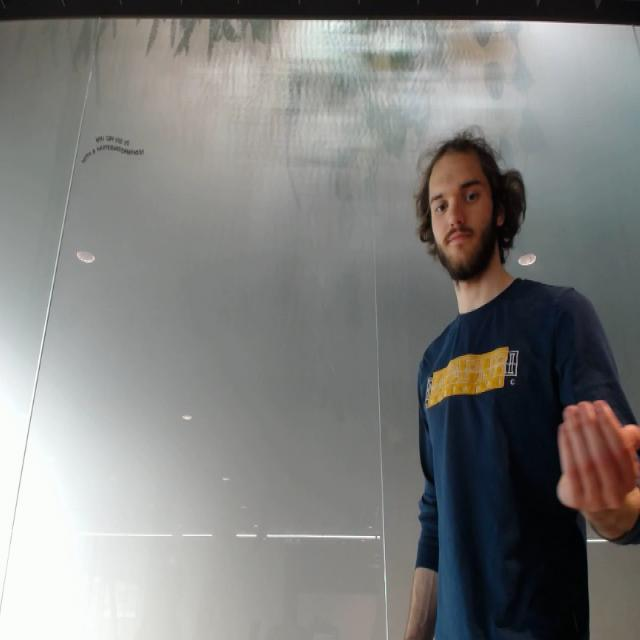forward: (552, 396, 640, 516)
